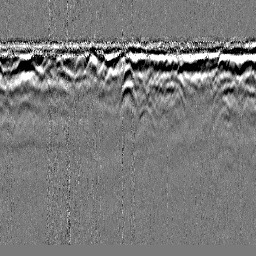cavity: (121, 62, 135, 83)
